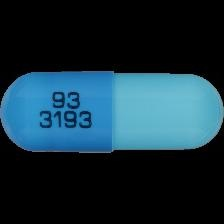0093-3193: (0, 0, 224, 224)
